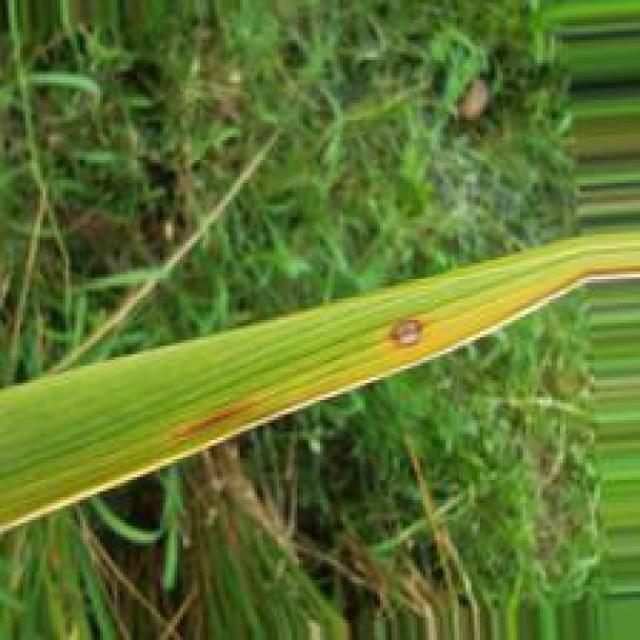Brown_Spot: (156, 395, 266, 451), (382, 311, 427, 346)
